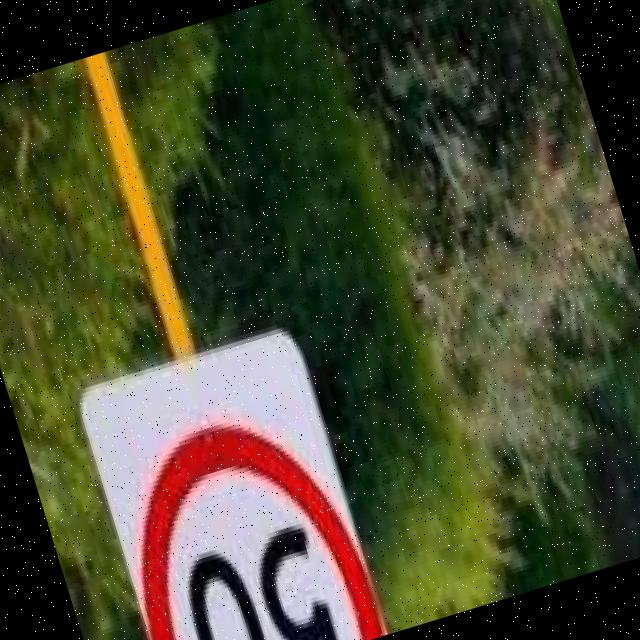speed_limit_50: (75, 390, 392, 640)
